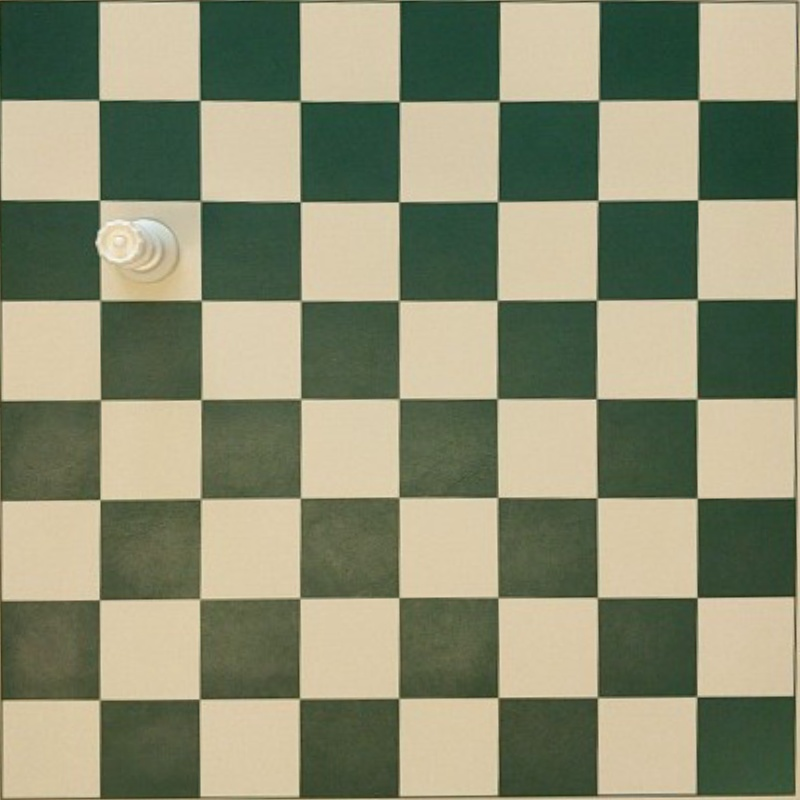white-queen: (96, 217, 177, 279)
